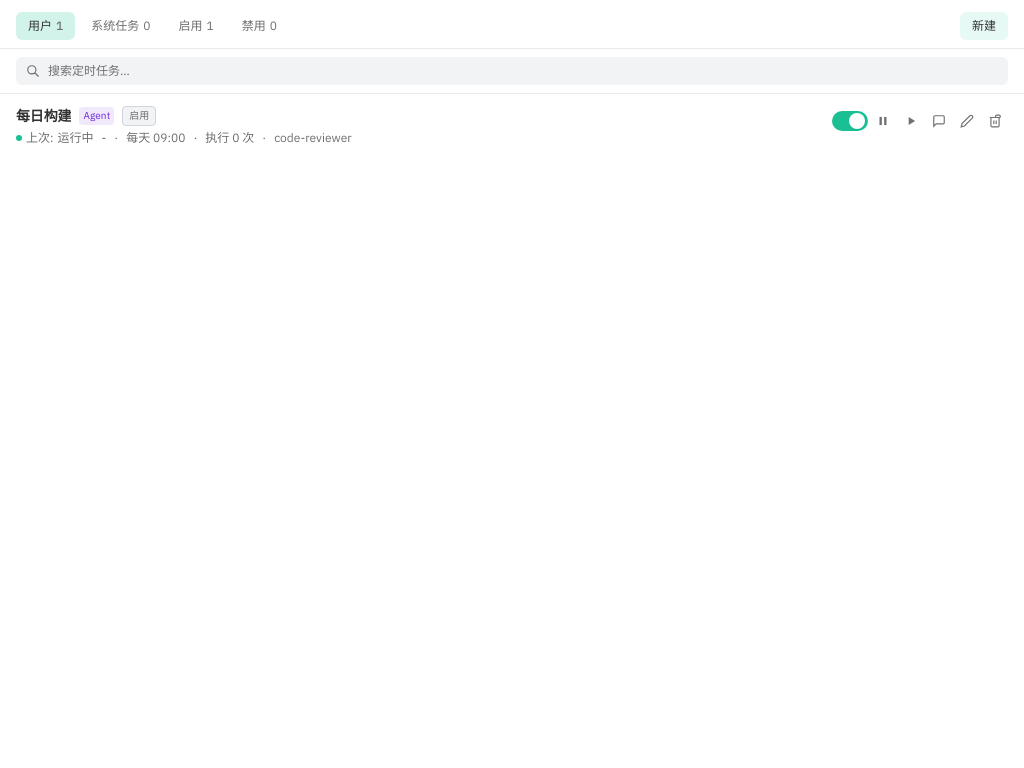
Test: 暂停 / 恢复 / 立即执行 / 停止 —— 失败回声与可播报 › 后端残留 running 的补扫：stop 抛异常仍先回声，且不中断后续的 runNow
Step 1. Click the button named "立即执行" → (911, 121), box [898, 108, 924, 134]
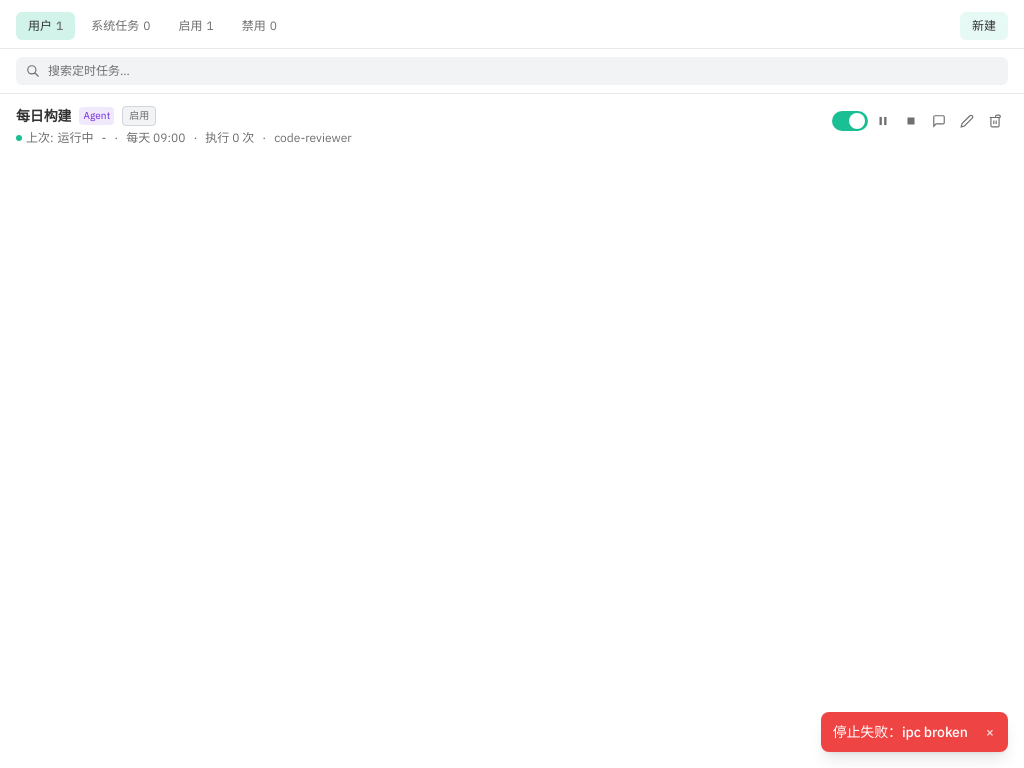
Now the message shows "停止失败", box [833, 723, 968, 741]
Now the message shows "ipc broken", box [833, 723, 968, 741]
